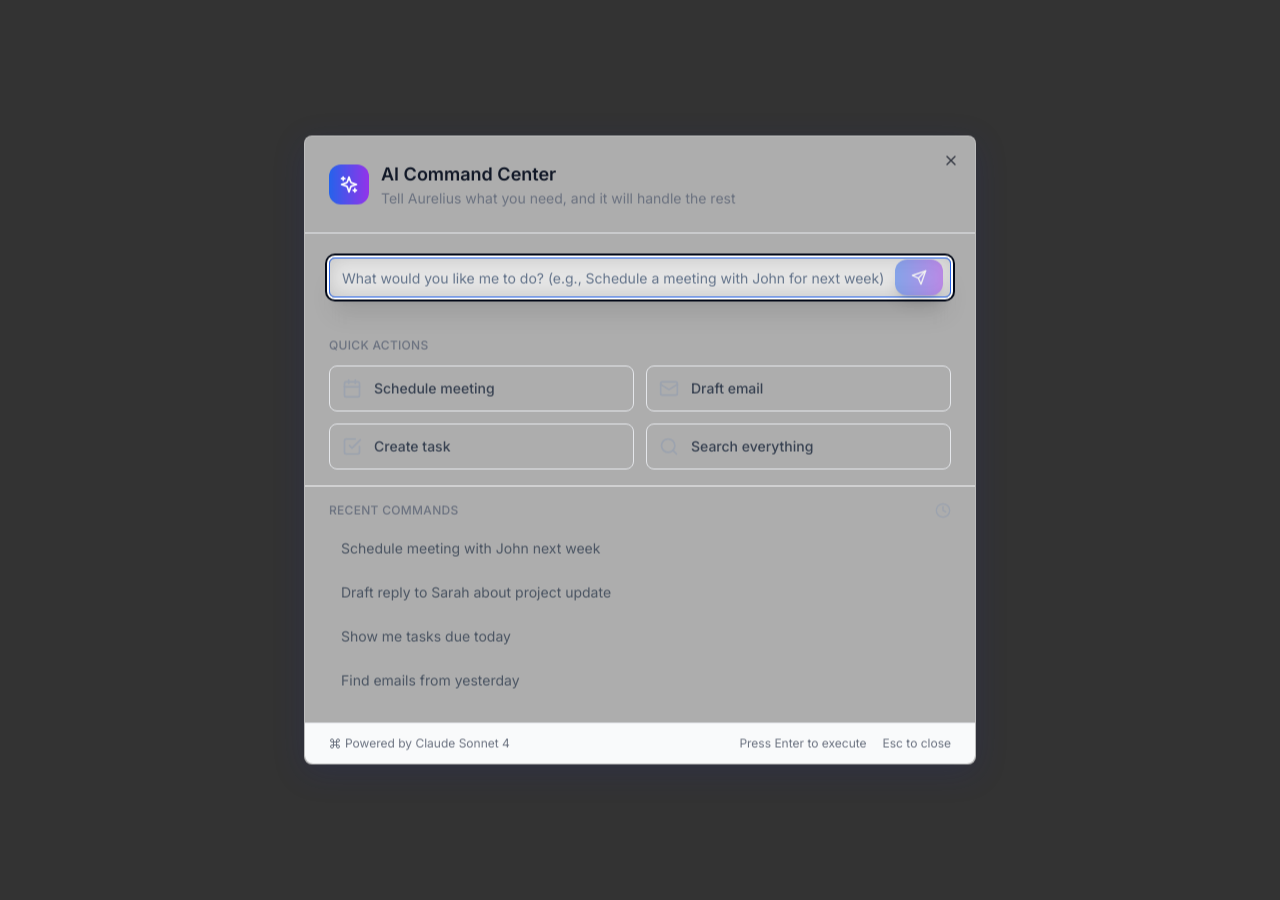
Test: CommandModal › handles quick action clicks
Click the button "Schedule meeting": point(482, 388) [329,366,634,412]
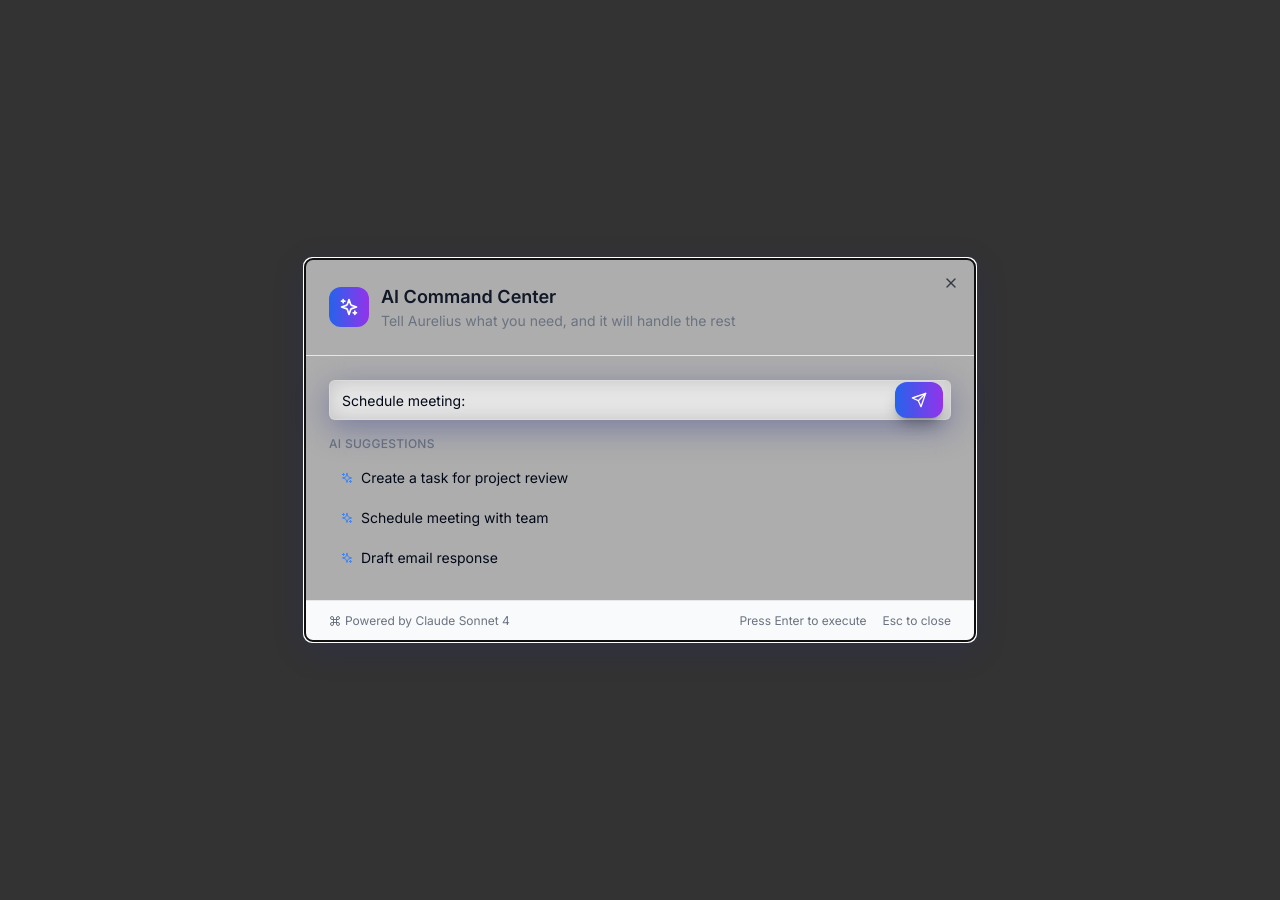
Result: the field with placeholder "What would you like me to do" holds "Schedule meeting: " at [329,380,951,420]
